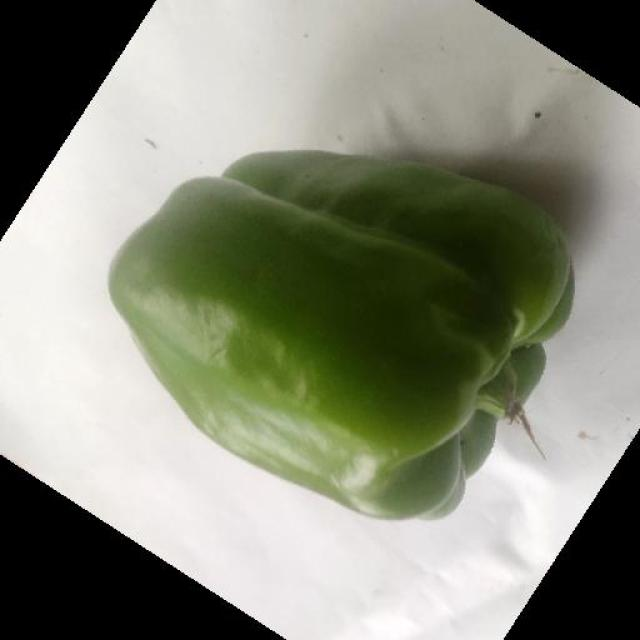Fresh_Capsicum: (86, 128, 584, 500)
